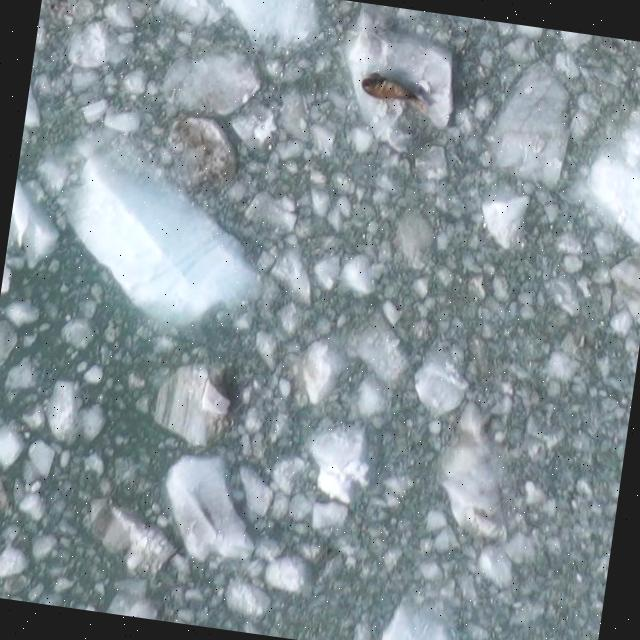seal: (357, 68, 431, 118)
